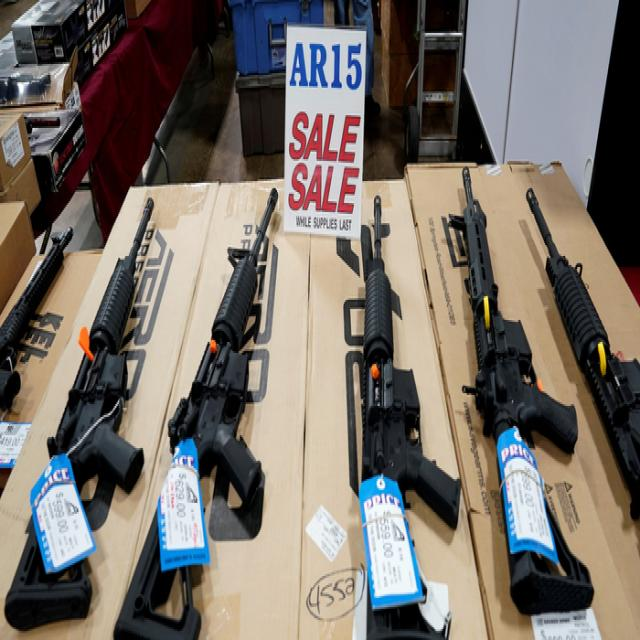Rifle: (113, 188, 279, 640), (448, 168, 594, 616), (5, 203, 151, 633), (359, 194, 461, 640)
